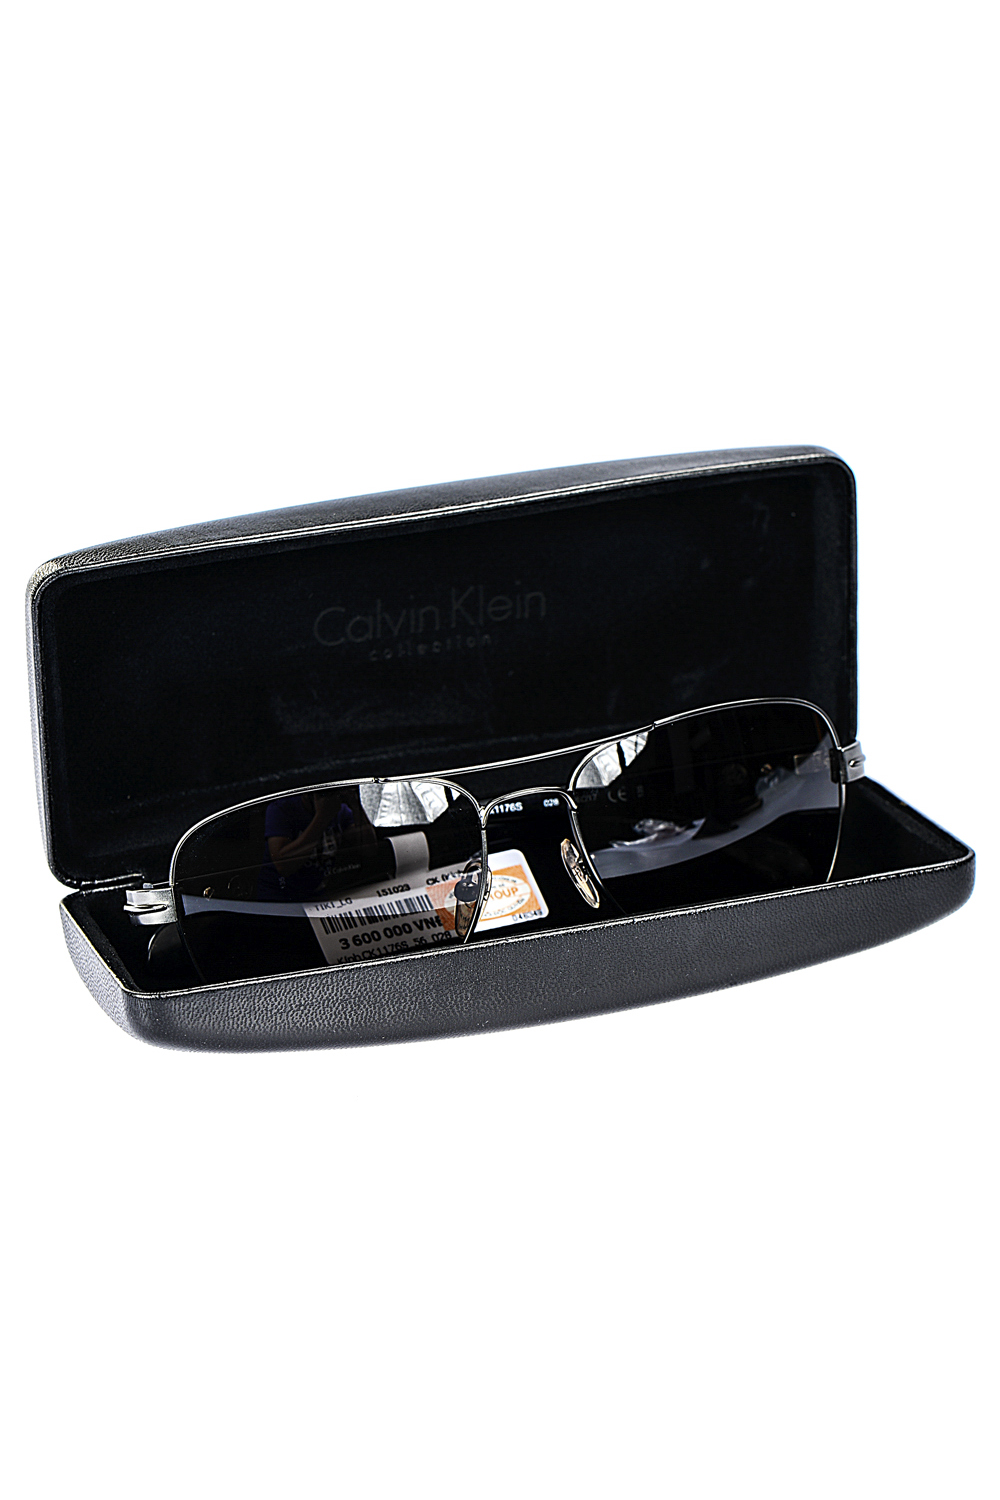Calvin Klein: (286, 575, 580, 652)
